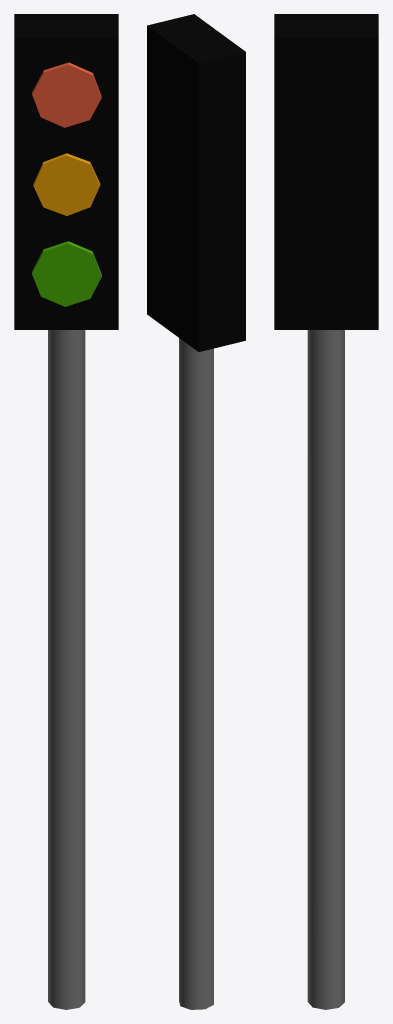
The model's file is signal lights.fbx.
The picture shows the model from 3 angles, left to right: view 1: azimuth 90°, elevation 25°; view 2: azimuth 210°, elevation 25°; view 3: azimuth 270°, elevation 25°; orthographic projection.
Visible parts, largest first — view 1: traffic_lights; view 2: traffic_lights; view 3: traffic_lights.
Part boxes in pixels (x1,y1,x2,y2): traffic_lights: (14,14,118,1009); traffic_lights: (147,14,245,1009); traffic_lights: (274,14,378,1009).
Size of the model in its own units: 34.32 by 607 by 58.9.
